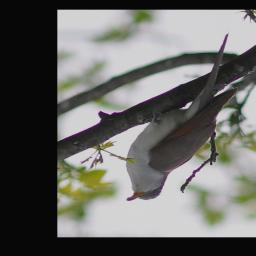Cuckoo: (124, 30, 240, 201)
